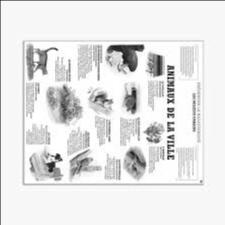Non_Gorille: (13, 44, 163, 189)
